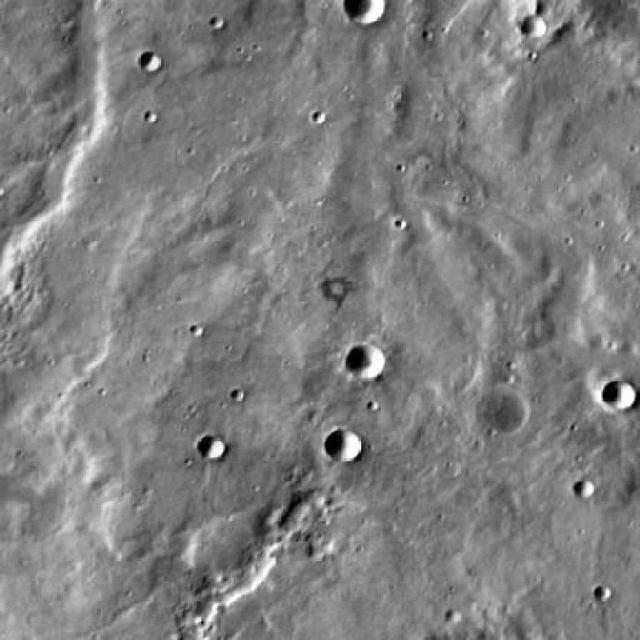crater: (344, 346, 388, 385), (324, 428, 362, 462), (345, 0, 383, 28), (603, 382, 637, 412), (519, 15, 547, 39), (197, 436, 223, 459), (569, 478, 593, 499), (138, 55, 159, 73)
